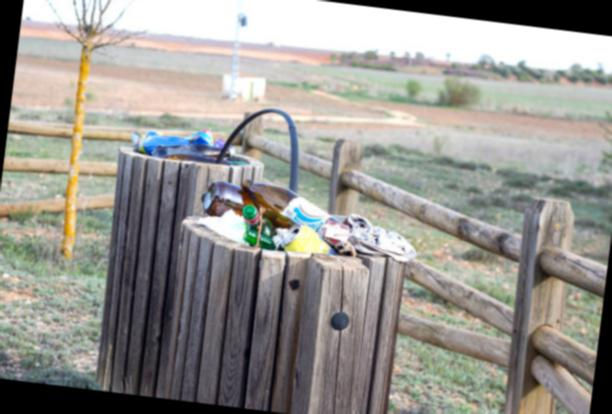trash: (183, 170, 424, 272), (128, 102, 256, 167)
trash_can_overflow: (153, 156, 443, 414), (85, 80, 298, 410)
